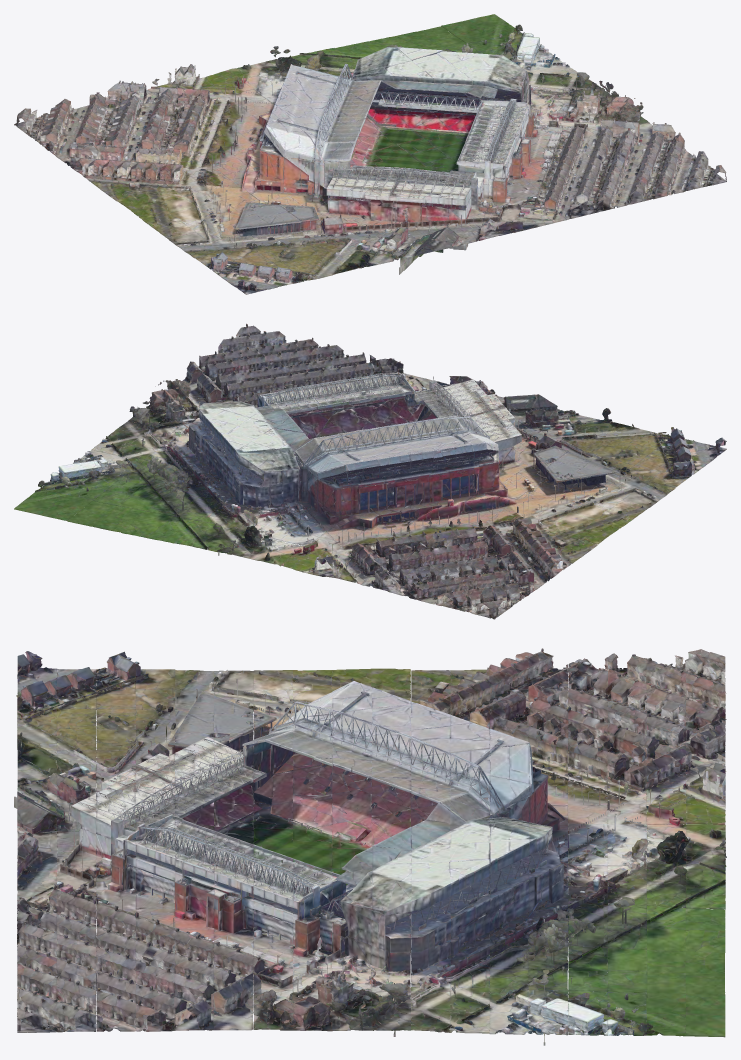
The model's file is anfield.glb.
The picture shows the model from 3 angles, top to bottom: view 1: azimuth 30°, elevation 25°; view 2: azimuth 150°, elevation 25°; view 3: azimuth 270°, elevation 25°; orthographic projection. The views are drawn at different scales.
Size of the model in its own units: 412 by 80.43 by 346.
1 material, 1 textured.
